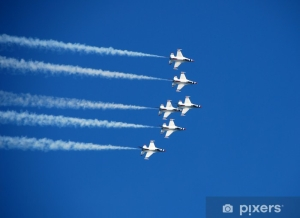flight: (170, 70, 199, 93), (167, 49, 195, 70), (178, 95, 202, 117), (160, 119, 186, 139), (139, 139, 165, 159), (157, 100, 179, 120)
